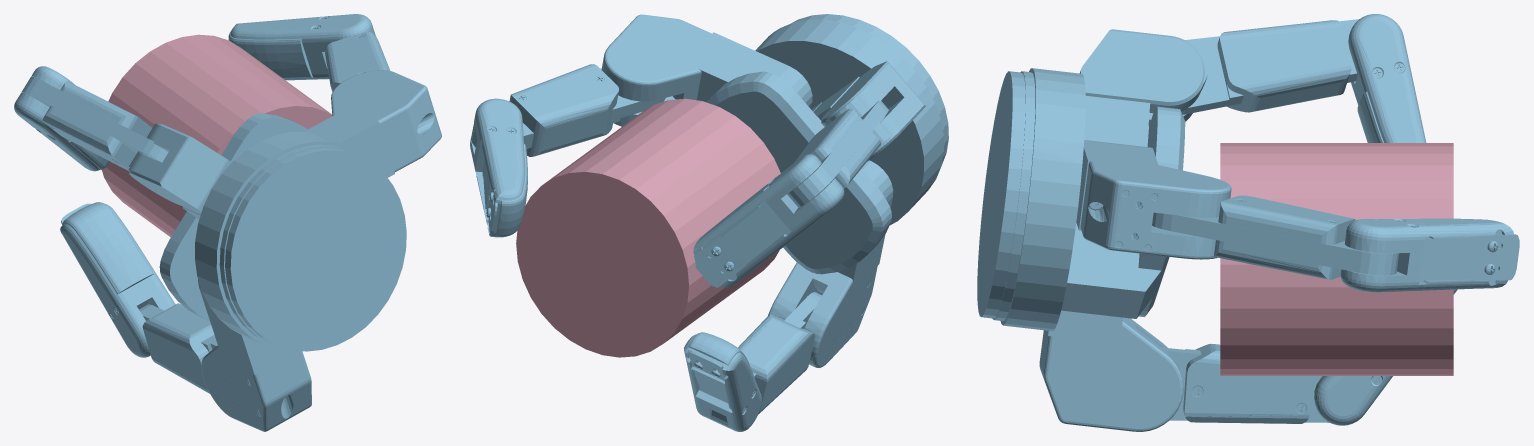
The picture shows the model from 3 angles, left to right: view 1: azimuth 30°, elevation 25°; view 2: azimuth 150°, elevation 25°; view 3: azimuth 270°, elevation 25°; orthographic projection. The views are drawn at different scales.
Parts seen in each view (by area): view 1: world; view 2: world; view 3: world.
Part boxes in pixels (x1,y1,x2,y2): world: [14, 14, 441, 431]; world: [470, 14, 948, 431]; world: [977, 14, 1519, 431].
Size of the model in its own units: 0.1708 by 0.1361 by 0.1861.
